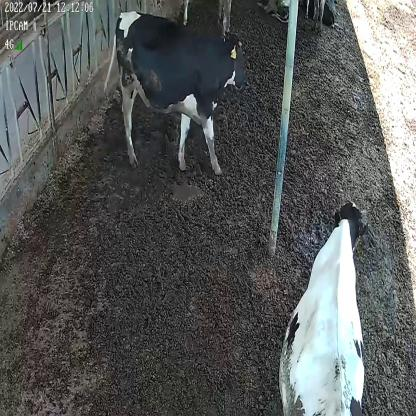cow: (103, 7, 247, 174), (279, 198, 367, 416)
